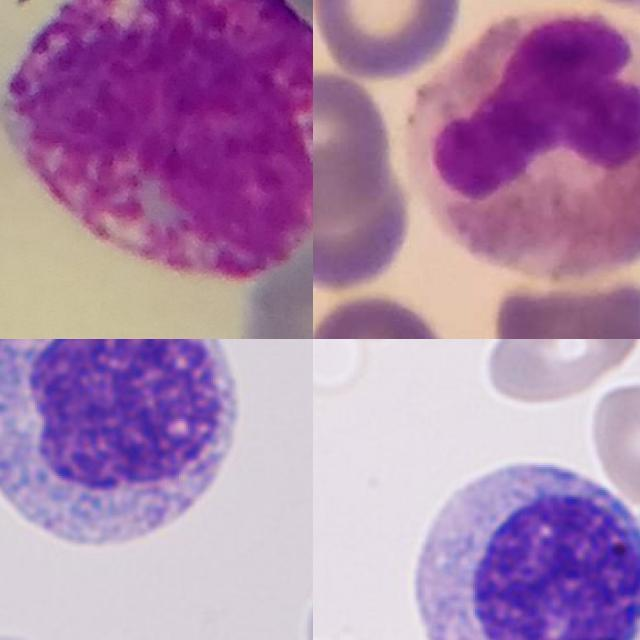Basophil: (5, 0, 313, 283)
Lymphocyte: (0, 339, 253, 565), (398, 449, 640, 640)
Monocyte: (408, 11, 640, 281)
RBC: (478, 339, 640, 406), (587, 381, 640, 506)
